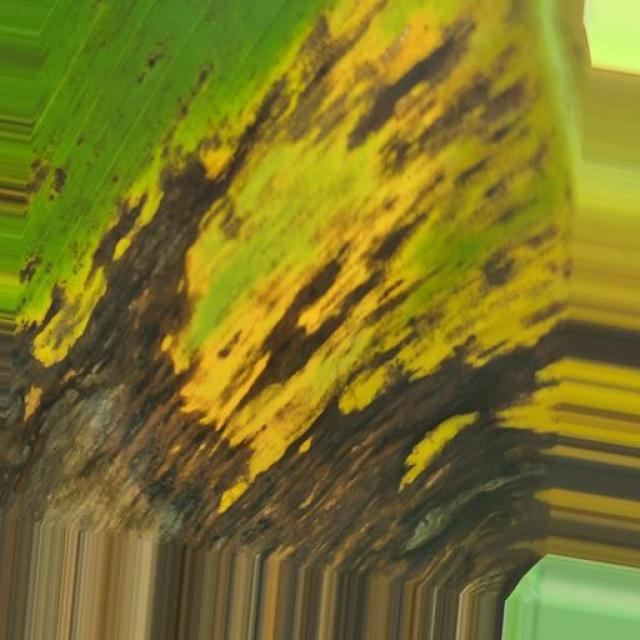Early_rust: (13, 0, 623, 581)
